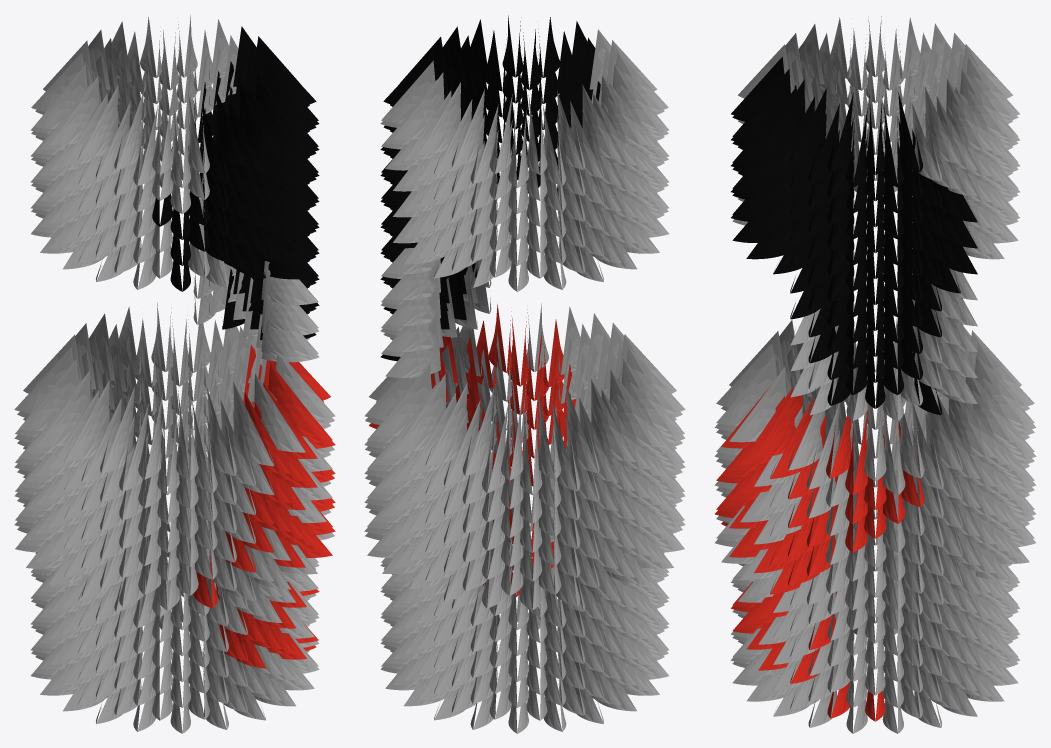
File: ModeloGLBPrueba.glb
3 views of the same model, side by side, from view 1: azimuth 30°, elevation 25°; view 2: azimuth 150°, elevation 25°; view 3: azimuth 270°, elevation 25° (orthographic).
Size of the model in its own units: 47.25 by 100 by 47.25.
